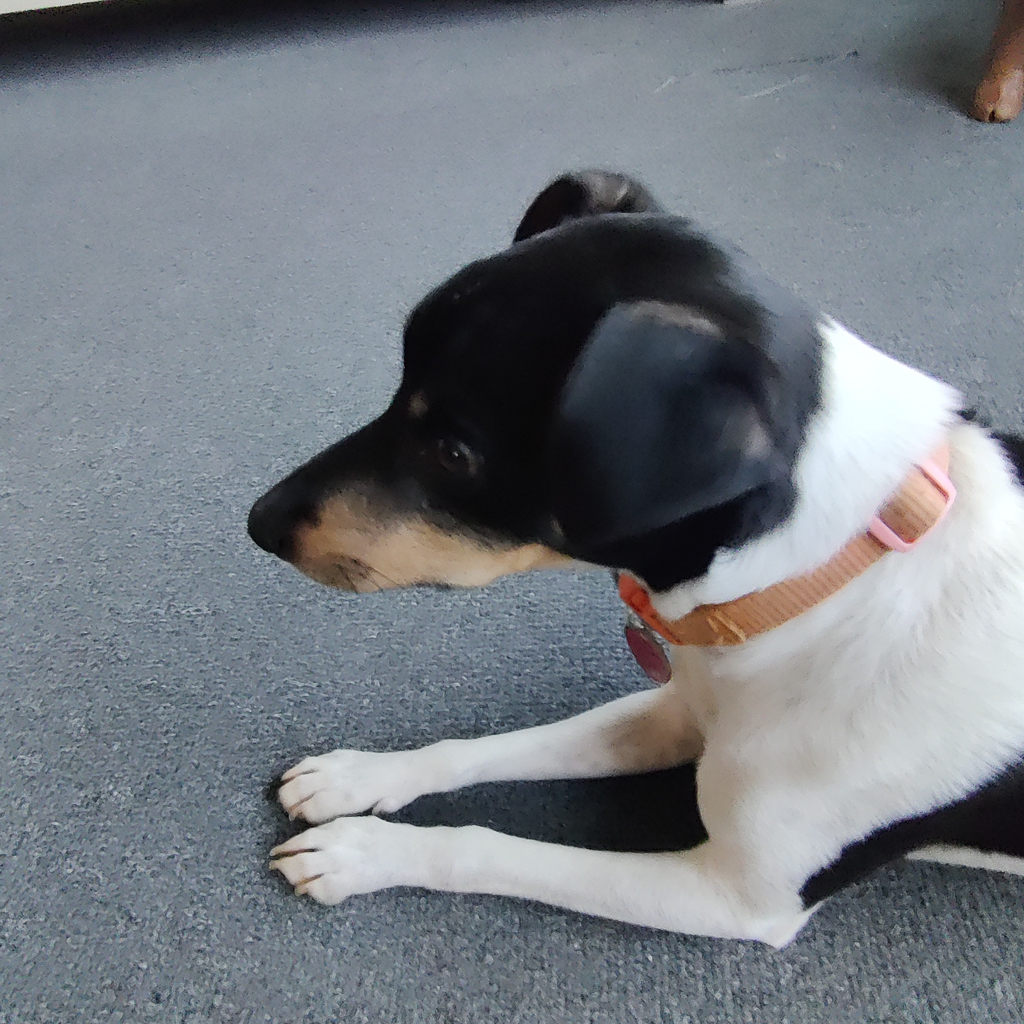Cattle: (938, 0, 1024, 140)
Dog: (188, 154, 1024, 973)
